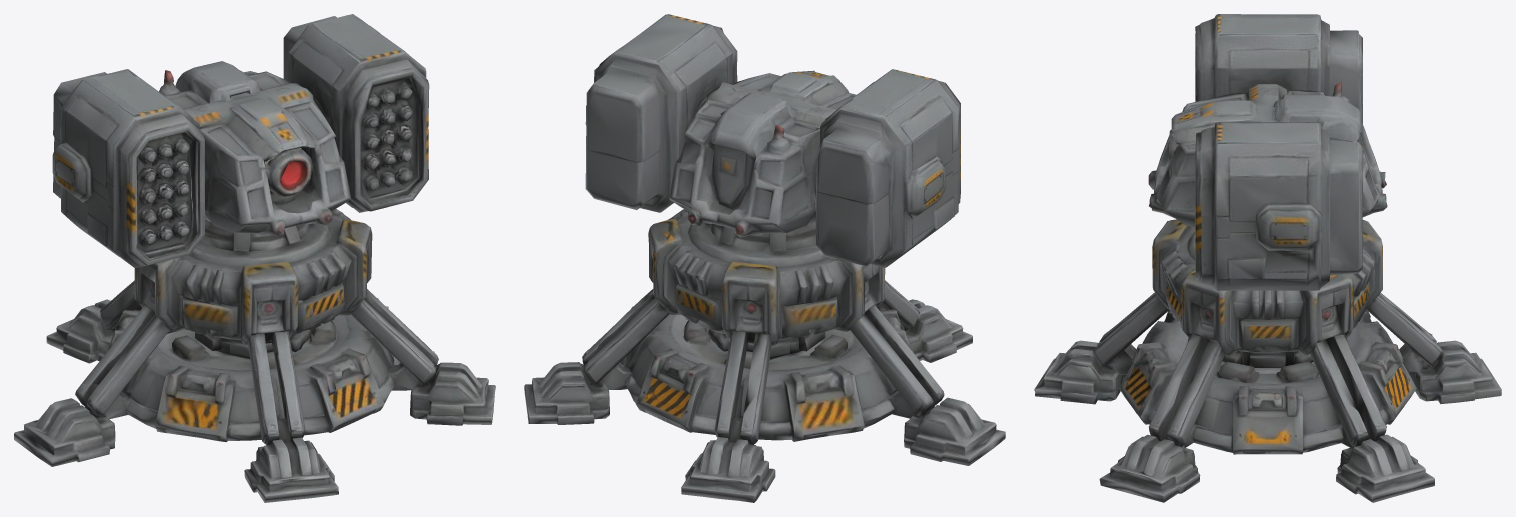
File: missile_turret.glb
The picture shows the model from 3 angles, left to right: view 1: azimuth 30°, elevation 25°; view 2: azimuth 150°, elevation 25°; view 3: azimuth 270°, elevation 25°; orthographic projection. The views are drawn at different scales.
Visible parts, largest first — view 1: tripo_node_5f55f7eb-3d41-4eb8-8da8-c7deb2a11035; view 2: tripo_node_5f55f7eb-3d41-4eb8-8da8-c7deb2a11035; view 3: tripo_node_5f55f7eb-3d41-4eb8-8da8-c7deb2a11035.
Boxes of the visible parts, x1,y1,x2,y2 form: tripo_node_5f55f7eb-3d41-4eb8-8da8-c7deb2a11035: (14,14,495,502); tripo_node_5f55f7eb-3d41-4eb8-8da8-c7deb2a11035: (524,14,1005,502); tripo_node_5f55f7eb-3d41-4eb8-8da8-c7deb2a11035: (1034,14,1501,502).
Bounding box in the file's own units: 2.38 × 1.87 × 2.4.
Materials: 1 (1 with a texture image).
